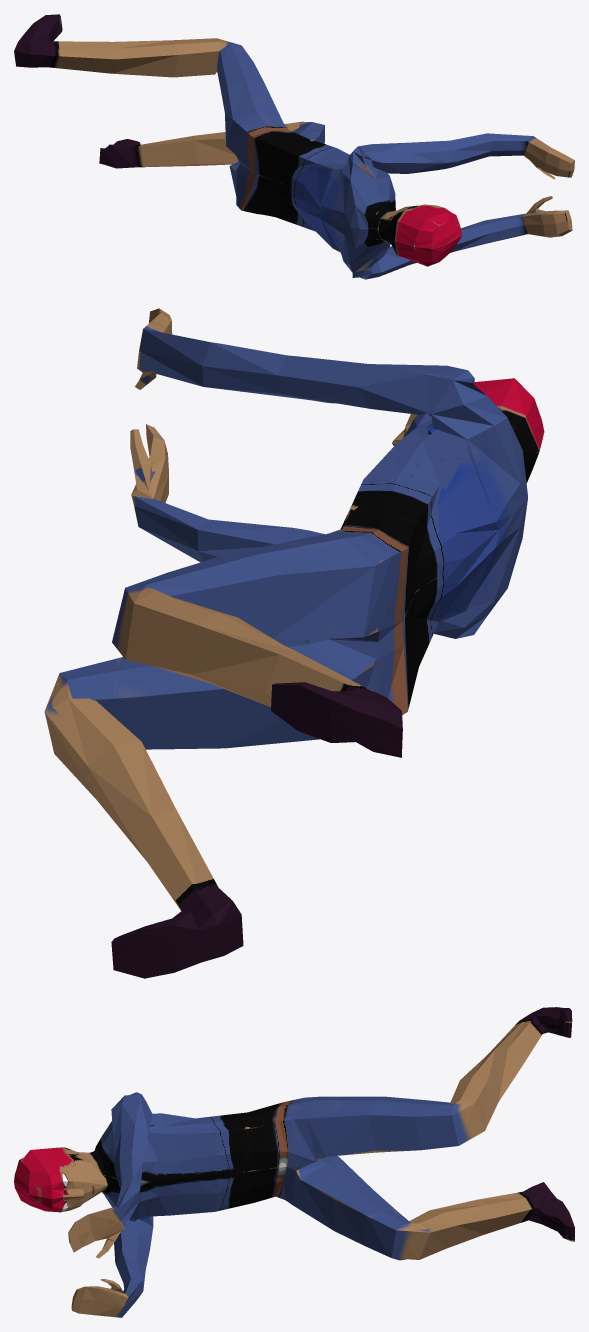
File: mirrorman_000026.obj
3 renders of one model, top to bottom at view 1: azimuth 30°, elevation 25°; view 2: azimuth 150°, elevation 25°; view 3: azimuth 270°, elevation 25°, orthographic. The views are drawn at different scales.
Visible parts, largest first — view 1: mirrorman_Cube.001_Material.001; view 2: mirrorman_Cube.001_Material.001; view 3: mirrorman_Cube.001_Material.001.
Part boxes in pixels (x1=…): mirrorman_Cube.001_Material.001: x1=14, y1=14, x2=574, y2=279; mirrorman_Cube.001_Material.001: x1=44, y1=308, x2=544, y2=978; mirrorman_Cube.001_Material.001: x1=14, y1=1007, x2=574, y2=1317.
Bounding box in the file's own units: 1.19 × 0.5497 × 1.51.
